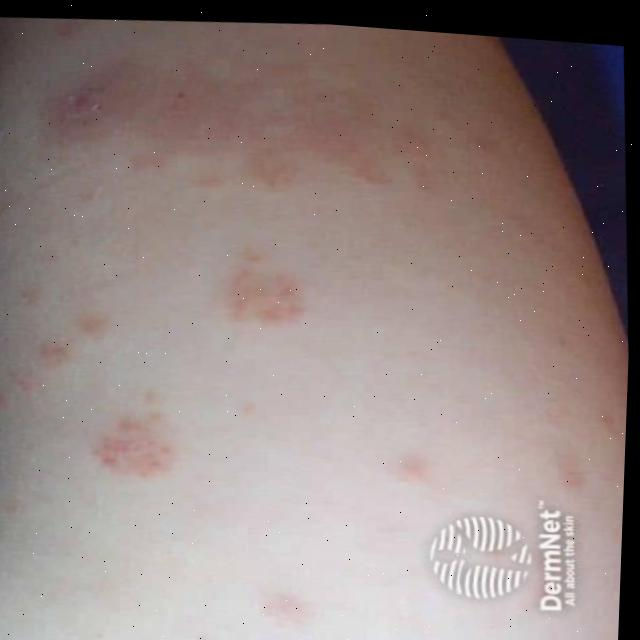Eczema: (76, 57, 391, 219), (25, 285, 133, 387), (217, 254, 292, 325), (100, 417, 149, 472)
